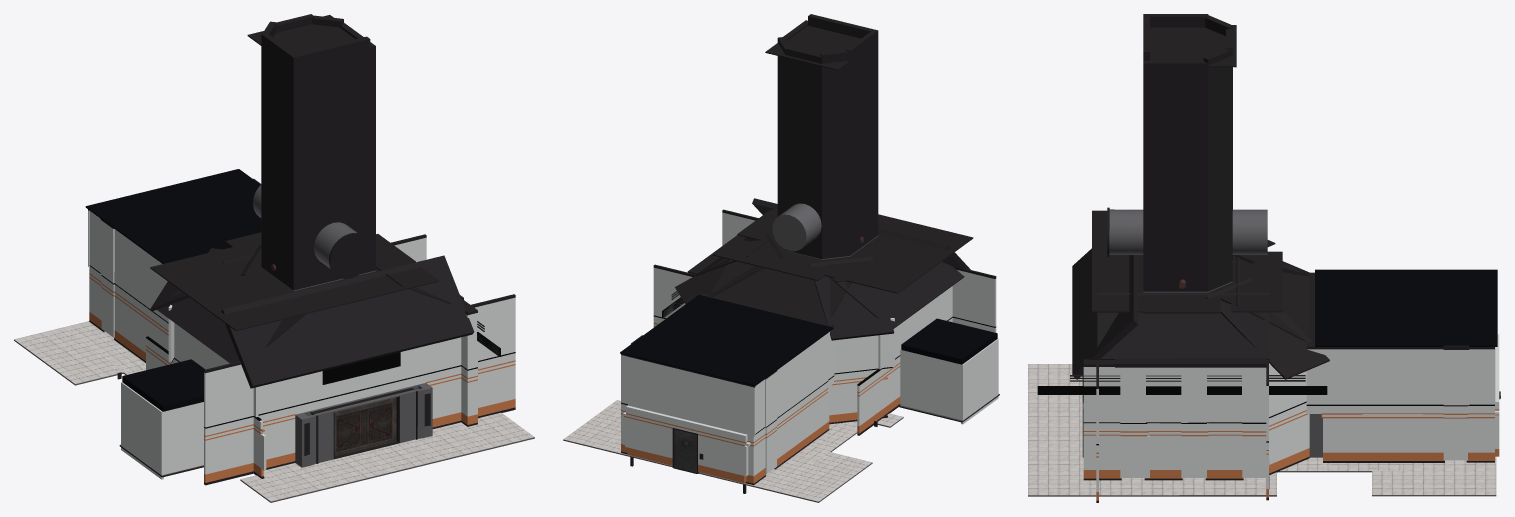
The model's file is SCP Gate A.obj.
The picture shows the model from 3 angles, left to right: view 1: azimuth 30°, elevation 25°; view 2: azimuth 150°, elevation 25°; view 3: azimuth 270°, elevation 25°; orthographic projection. The views are drawn at different scales.
Parts seen in each view (by area): view 1: Part221, Part186, Part172, Part220, Part264, Part322, Part4, Part11, Part634, Part12, Part292, Part223 (+25 smaller); view 2: Part172, Part209, Part219, Part264, Part262, Part322, Part182, Part14, Part283, Part292, Part4, Part220 (+25 smaller); view 3: Part180, Part172, Part44, Part222, Part124, Part156, Part221, Part267, Part183, Part95, Part223, Part182 (+31 smaller).
Boxes of the visible parts, x1,y1,x2,y2 form: Part221: (221, 255, 474, 388); Part186: (296, 36, 370, 288); Part172: (85, 169, 261, 263); Part220: (204, 297, 515, 427); Part264: (261, 33, 298, 290); Part322: (150, 247, 318, 331); Part4: (122, 359, 204, 411); Part11: (121, 382, 163, 479); Part634: (204, 419, 295, 474); Part12: (163, 402, 203, 474); Part292: (157, 290, 305, 363); Part223: (294, 262, 438, 310); Part172: (620, 294, 833, 386); Part209: (628, 357, 755, 436); Part219: (785, 46, 821, 258); Part264: (845, 29, 878, 255); Part262: (820, 50, 850, 258); Part322: (824, 219, 973, 293); Part182: (710, 241, 858, 324); Part14: (901, 350, 960, 419); Part283: (809, 256, 893, 340); Part292: (828, 262, 964, 328); Part4: (901, 318, 997, 364); Part220: (722, 212, 996, 326); Part180: (1143, 60, 1208, 291); Part172: (1315, 269, 1497, 346); Part44: (1097, 293, 1269, 359); Part222: (1203, 48, 1232, 291); Part124: (1323, 349, 1443, 404); Part156: (1323, 418, 1443, 452); Part221: (1072, 248, 1138, 379); Part267: (1143, 25, 1236, 67); Part183: (1231, 251, 1282, 312); Part95: (1206, 278, 1329, 379); Part223: (1092, 251, 1143, 312); Part182: (1236, 256, 1308, 341).
Bounding box in the file's own units: 57.89 × 65.6 × 69.87.
24 materials, 12 textured.
